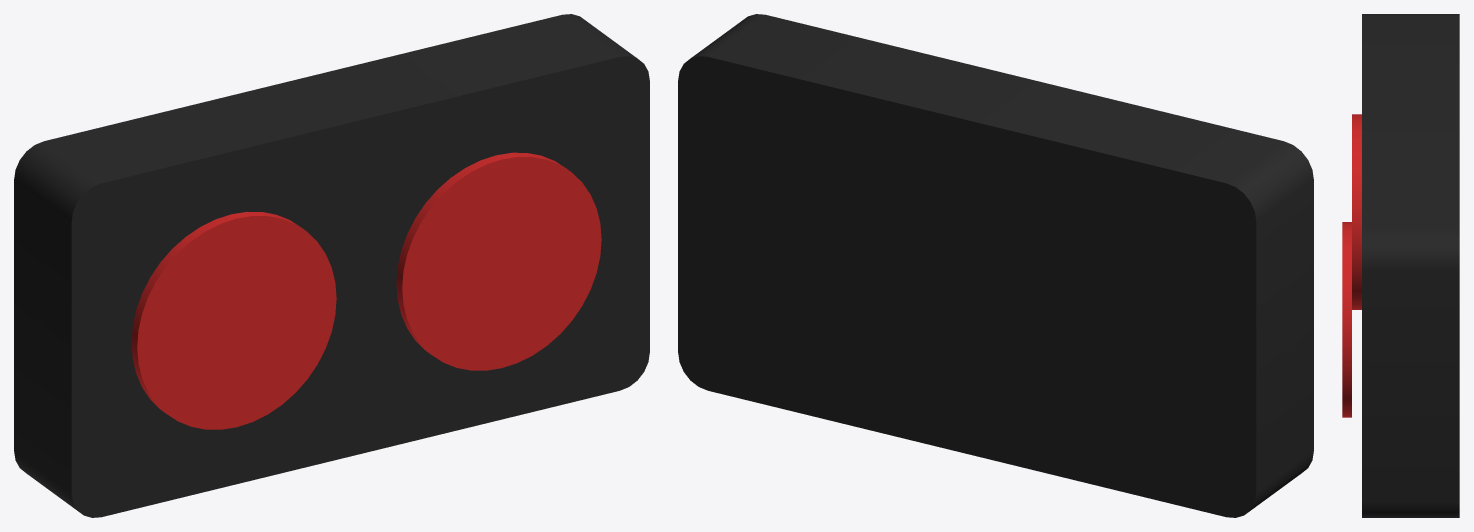
The picture shows the model from 3 angles, left to right: view 1: azimuth 30°, elevation 25°; view 2: azimuth 150°, elevation 25°; view 3: azimuth 270°, elevation 25°; orthographic projection. The views are drawn at different scales.
Parts seen in each view (by area): view 1: KR1_r00, KR1_d275, KR1_d250; view 2: KR1_r00; view 3: KR1_r00, KR1_d250, KR1_d275.
Part boxes in pixels (x1=…): KR1_r00: x1=14, y1=14, x2=649, y2=517; KR1_d275: x1=396, y1=152, x2=601, y2=370; KR1_d250: x1=131, y1=212, x2=336, y2=429; KR1_r00: x1=678, y1=14, x2=1313, y2=517; KR1_r00: x1=1362, y1=14, x2=1459, y2=517; KR1_d250: x1=1352, y1=114, x2=1361, y2=309; KR1_d275: x1=1342, y1=222, x2=1351, y2=417.
Size of the model in its own units: 0.58 by 0.32 by 0.12.
